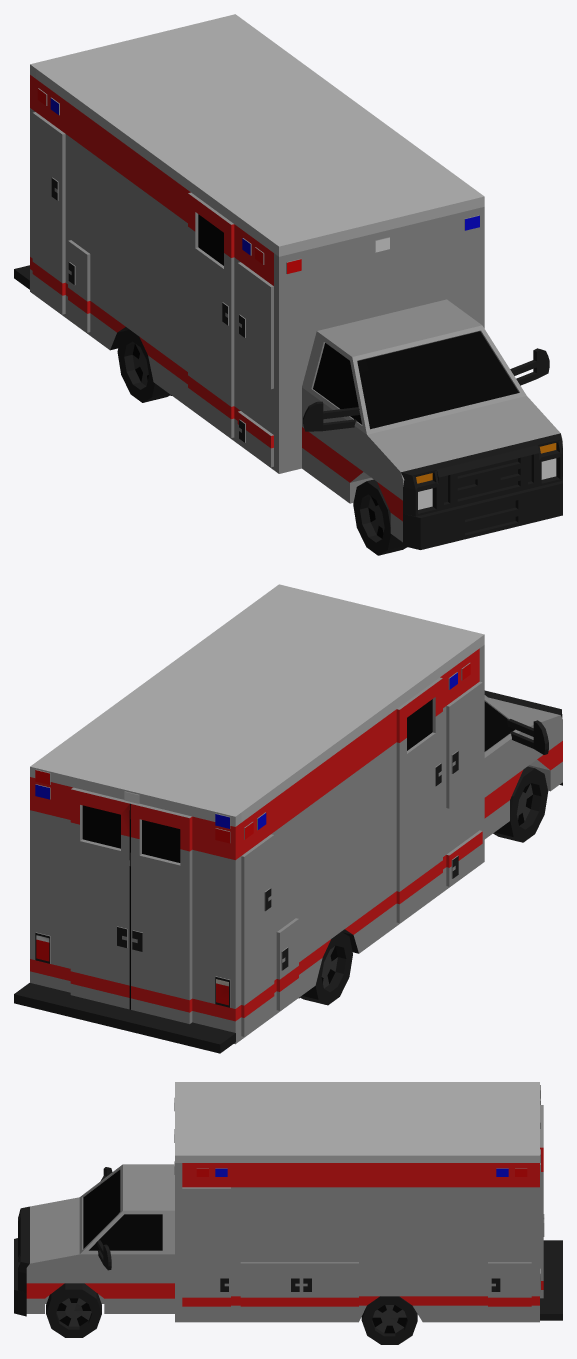
File: SM_ambulance_van.FBX
3 views of the same model, one above another, from view 1: azimuth 30°, elevation 25°; view 2: azimuth 150°, elevation 25°; view 3: azimuth 270°, elevation 25° (orthographic). The views are drawn at different scales.
Visible parts, largest first — view 1: FordVanAmbulance; view 2: FordVanAmbulance; view 3: FordVanAmbulance.
Part boxes in pixels (left/top/right/bottom): FordVanAmbulance: left=14, top=14, right=562, bottom=555; FordVanAmbulance: left=14, top=584, right=562, bottom=1053; FordVanAmbulance: left=14, top=1082, right=562, bottom=1344.
Bounding box in the file's own units: 291 × 295 × 769.
